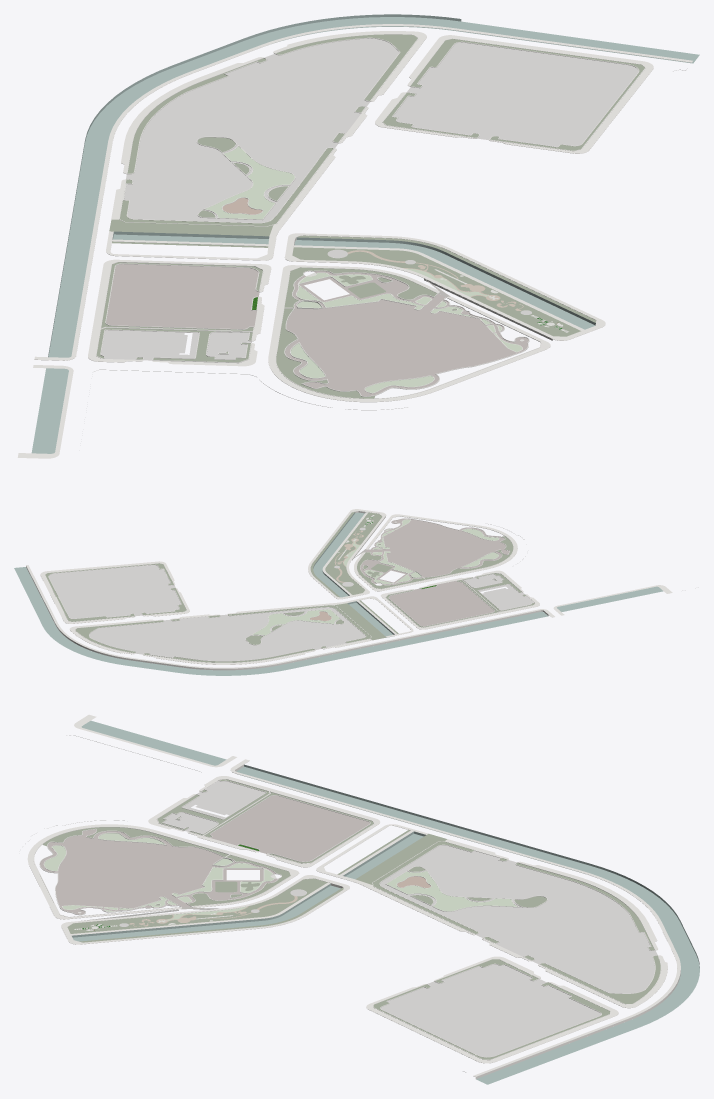
3 renders of one model, top to bottom at view 1: azimuth 30°, elevation 25°; view 2: azimuth 150°, elevation 25°; view 3: azimuth 270°, elevation 25°, orthographic. The views are drawn at different scales.
Visible parts, largest first — view 1: Mesh1 Group1 Model_719 Mesh1 Group1 Model_748 Mesh1 Group1 M, Mesh1 Group1 Model_3 Mesh1 Group1 Model_5 Mesh1 Group1 Model, Mesh1 Group1 Model_129 Mesh1 Group1 Model_131 Mesh1 Group1 M, Mesh1 Group1 Model_703 Mesh1 Group1 Model_711 Mesh1 Group1 M, Mesh1 Group1 Model_6 Mesh1 Group1 Model_8 Mesh1 Group1 Model, Mesh1 Group1 Model Mesh1 Group1 Model_2 Mesh1 Group1 Model_4, Mesh1 Group1 Model_1 Mesh1 Group1 Model_10 Mesh1 Group1 Mode; view 2: Mesh1 Group1 Model_719 Mesh1 Group1 Model_748 Mesh1 Group1 M, Mesh1 Group1 Model_3 Mesh1 Group1 Model_5 Mesh1 Group1 Model, Mesh1 Group1 Model_129 Mesh1 Group1 Model_131 Mesh1 Group1 M, Mesh1 Group1 Model_703 Mesh1 Group1 Model_711 Mesh1 Group1 M, Mesh1 Group1 Model_6 Mesh1 Group1 Model_8 Mesh1 Group1 Model, Mesh1 Group1 Model Mesh1 Group1 Model_2 Mesh1 Group1 Model_4, Mesh1 Group1 Model_1 Mesh1 Group1 Model_10 Mesh1 Group1 Mode; view 3: Mesh1 Group1 Model_719 Mesh1 Group1 Model_748 Mesh1 Group1 M, Mesh1 Group1 Model_3 Mesh1 Group1 Model_5 Mesh1 Group1 Model, Mesh1 Group1 Model_129 Mesh1 Group1 Model_131 Mesh1 Group1 M, Mesh1 Group1 Model_703 Mesh1 Group1 Model_711 Mesh1 Group1 M, Mesh1 Group1 Model_6 Mesh1 Group1 Model_8 Mesh1 Group1 Model, Mesh1 Group1 Model Mesh1 Group1 Model_2 Mesh1 Group1 Model_4, Mesh1 Group1 Model_1 Mesh1 Group1 Model_10 Mesh1 Group1 Mode.
Part boxes in pixels (x1,y1,x2,y2): Mesh1 Group1 Model_719 Mesh1 Group1 Model_748 Mesh1 Group1 M: [101, 38, 638, 360]; Mesh1 Group1 Model_3 Mesh1 Group1 Model_5 Mesh1 Group1 Model: [106, 264, 528, 396]; Mesh1 Group1 Model_129 Mesh1 Group1 Model_131 Mesh1 Group1 M: [17, 24, 692, 458]; Mesh1 Group1 Model_703 Mesh1 Group1 Model_711 Mesh1 Group1 M: [31, 14, 699, 453]; Mesh1 Group1 Model_6 Mesh1 Group1 Model_8 Mesh1 Group1 Model: [96, 34, 644, 398]; Mesh1 Group1 Model Mesh1 Group1 Model_2 Mesh1 Group1 Model_4: [95, 34, 645, 398]; Mesh1 Group1 Model_1 Mesh1 Group1 Model_10 Mesh1 Group1 Mode: [205, 146, 522, 392]; Mesh1 Group1 Model_719 Mesh1 Group1 Model_748 Mesh1 Group1 M: [49, 527, 533, 660]; Mesh1 Group1 Model_3 Mesh1 Group1 Model_5 Mesh1 Group1 Model: [360, 518, 509, 626]; Mesh1 Group1 Model_129 Mesh1 Group1 Model_131 Mesh1 Group1 M: [26, 509, 698, 670]; Mesh1 Group1 Model_703 Mesh1 Group1 Model_711 Mesh1 Group1 M: [14, 512, 663, 675]; Mesh1 Group1 Model_6 Mesh1 Group1 Model_8 Mesh1 Group1 Model: [45, 512, 534, 662]; Mesh1 Group1 Model Mesh1 Group1 Model_2 Mesh1 Group1 Model_4: [45, 515, 685, 662]; Mesh1 Group1 Model_1 Mesh1 Group1 Model_10 Mesh1 Group1 Mode: [253, 519, 498, 635]; Mesh1 Group1 Model_719 Mesh1 Group1 Model_748 Mesh1 Group1 M: [119, 780, 657, 1056]; Mesh1 Group1 Model_3 Mesh1 Group1 Model_5 Mesh1 Group1 Model: [40, 795, 369, 914]; Mesh1 Group1 Model_129 Mesh1 Group1 Model_131 Mesh1 Group1 M: [25, 714, 680, 1078]; Mesh1 Group1 Model_703 Mesh1 Group1 Model_711 Mesh1 Group1 M: [72, 720, 699, 1084]; Mesh1 Group1 Model_6 Mesh1 Group1 Model_8 Mesh1 Group1 Model: [43, 779, 660, 1059]; Mesh1 Group1 Model Mesh1 Group1 Model_2 Mesh1 Group1 Model_4: [33, 779, 661, 1060]; Mesh1 Group1 Model_1 Mesh1 Group1 Model_10 Mesh1 Group1 Mode: [44, 833, 517, 920].
Size of the model in its own units: 707314 by 2771 by 541848.
Materials: 13 (3 with a texture image).
